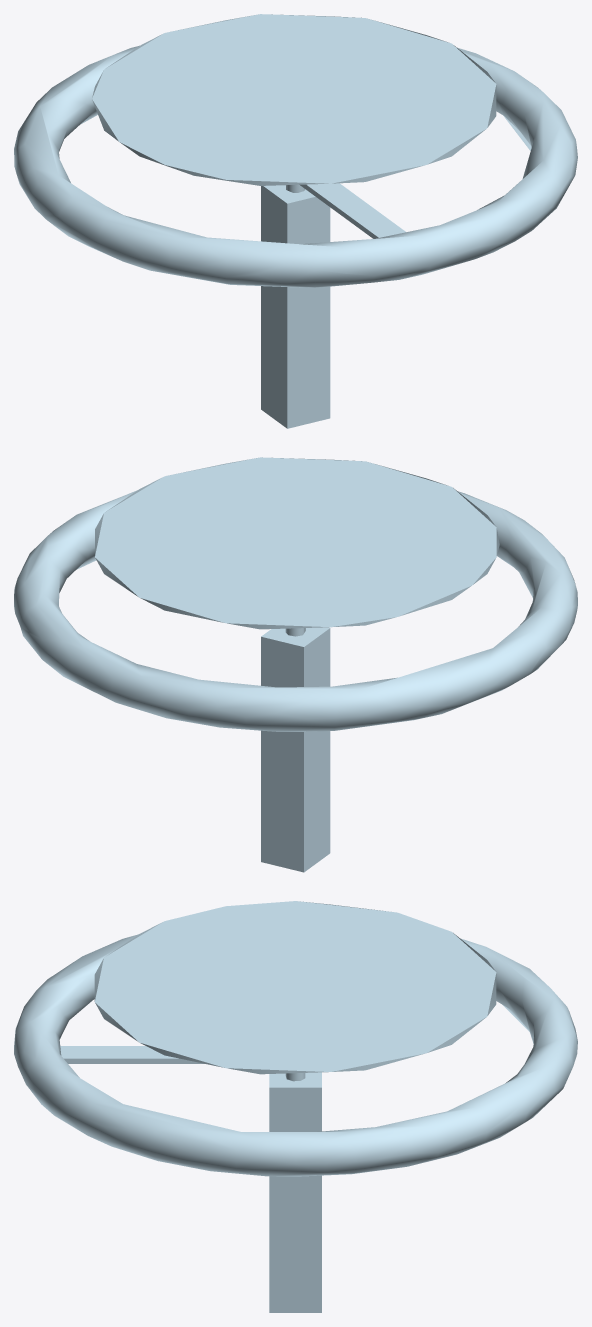
Rendered from live_pod_kit_lod2.glb.
3 views of the same model, one above another, from view 1: azimuth 30°, elevation 25°; view 2: azimuth 150°, elevation 25°; view 3: azimuth 270°, elevation 25° (orthographic).
Parts seen in each view (by area): view 1: Live solar disc, Live berm, Live container, Live dig beam; view 2: Live solar disc, Live berm, Live container; view 3: Live solar disc, Live berm, Live container, Live dig beam.
Boxes of the visible parts, x1,y1,x2,y2 form: Live solar disc: (92, 14, 496, 185); Live berm: (14, 45, 577, 287); Live container: (261, 185, 330, 428); Live dig beam: (299, 183, 405, 238); Live solar disc: (95, 457, 499, 629); Live berm: (14, 490, 577, 731); Live container: (261, 627, 330, 872); Live solar disc: (94, 901, 496, 1074); Live berm: (14, 934, 577, 1176); Live container: (269, 1072, 321, 1312); Live dig beam: (60, 1046, 204, 1063).
Bounding box in the file's own units: 27.64 × 17.06 × 27.65.
